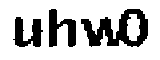0: (119, 5, 152, 51)
h: (46, 6, 78, 51)
u: (9, 13, 44, 50)
w: (77, 16, 122, 51)
